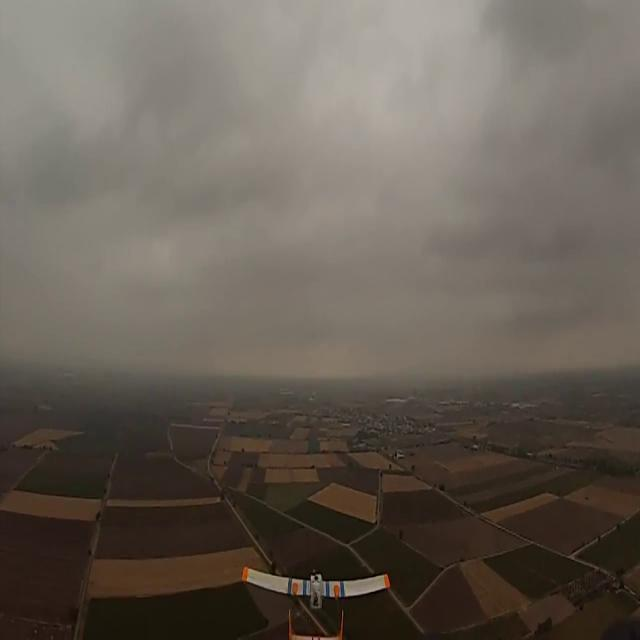iha: (239, 582, 397, 608)
